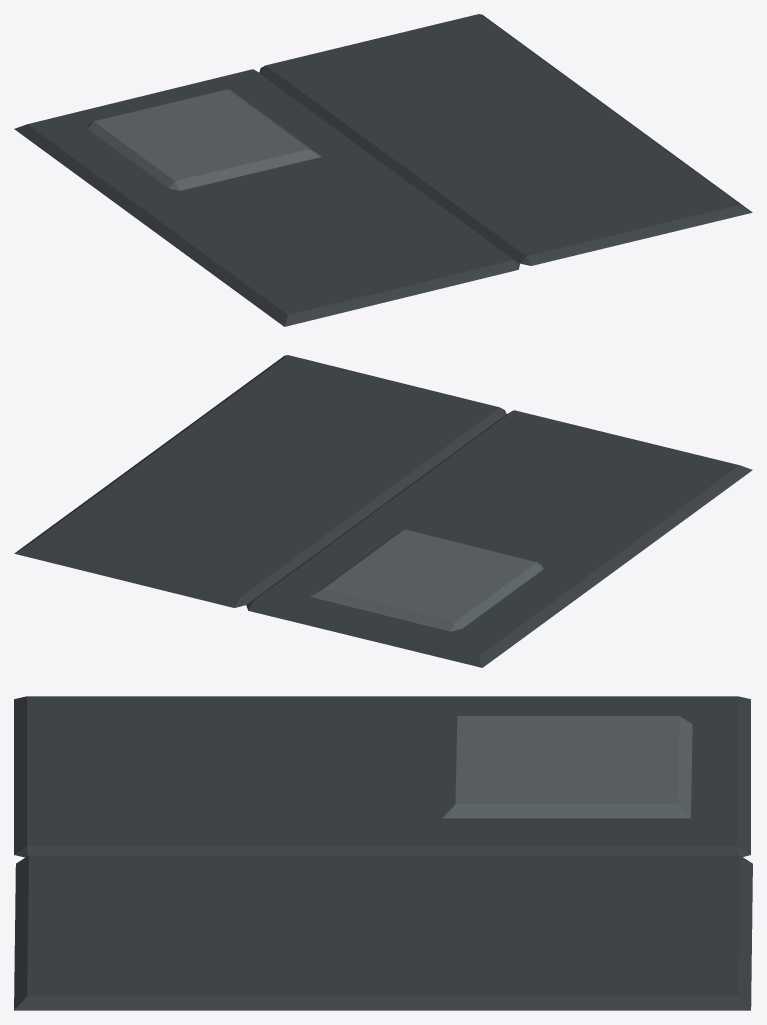
Rendered from street_greeble_1.glb.
3 renders of one model, top to bottom at view 1: azimuth 30°, elevation 25°; view 2: azimuth 150°, elevation 25°; view 3: azimuth 270°, elevation 25°, orthographic. The views are drawn at different scales.
Parts seen in each view (by area): view 1: street_greeble_1; view 2: street_greeble_1; view 3: street_greeble_1.
Boxes of the visible parts, x1,y1,x2,y2 form: street_greeble_1: (14,14,752,326); street_greeble_1: (14,355,752,667); street_greeble_1: (14,696,752,1010).
Size of the model in its own units: 2 by 0.0562 by 2.01.
Materials: 1 (1 with a texture image).
